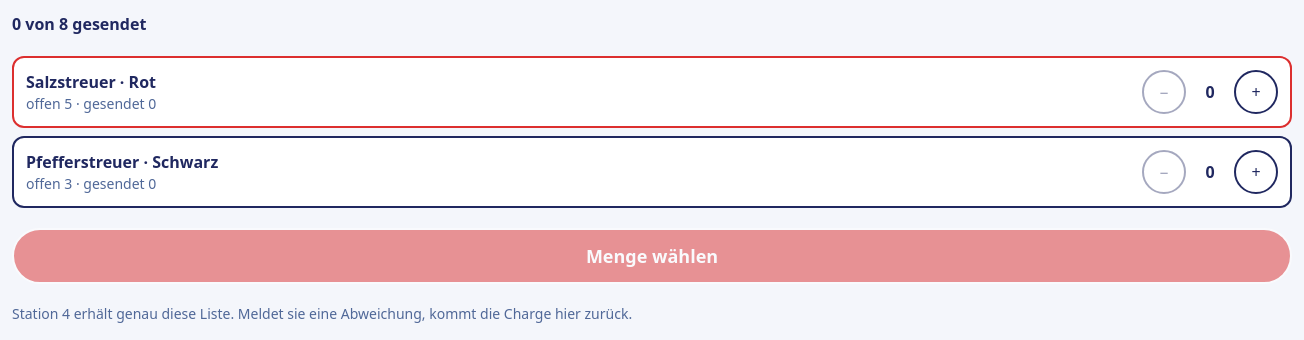
Test: Station3ProductionView › keeps the remaining rows selected when a hand-over fails
Click the button named "Salzstreuer · Rot mehr".
click(1256, 92)  # box [1234,70,1278,114]
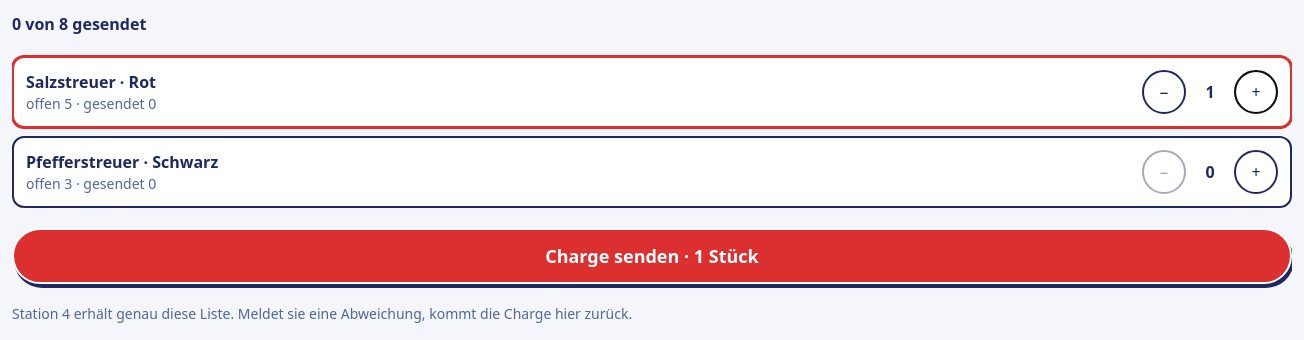
Click the button named "Pfefferstreuer · Schwarz mehr".
click(1256, 172)  # box [1234,150,1278,194]
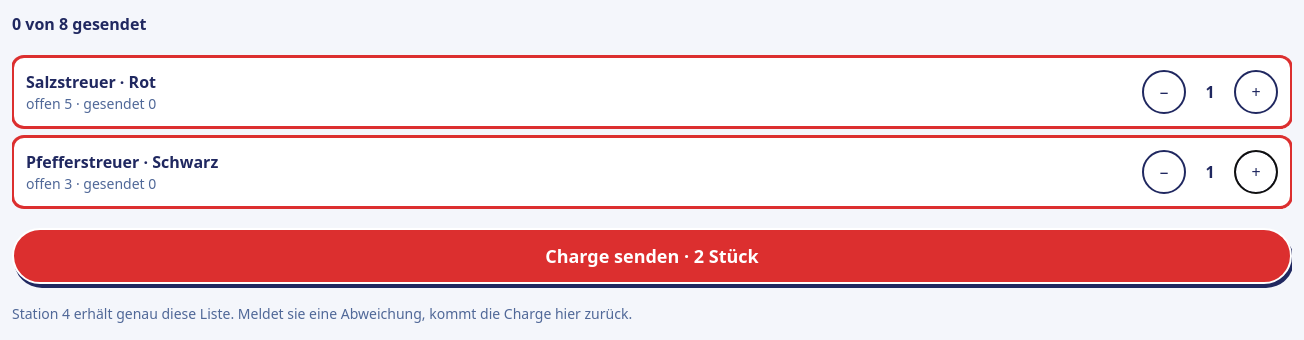
Click the button "Charge senden · 2 Stück".
click(652, 256)  # box [12,228,1292,284]
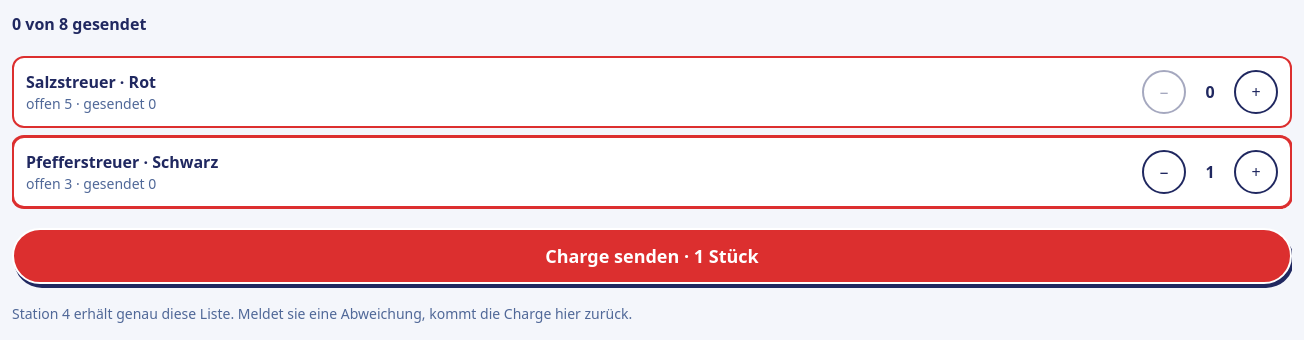
expect the text named "Salzstreuer · Rot Menge" reads "0": met, box [1205,81,1215,103]
expect the button "Charge senden · 1 Stück" is shown: met, box [12,228,1292,284]
